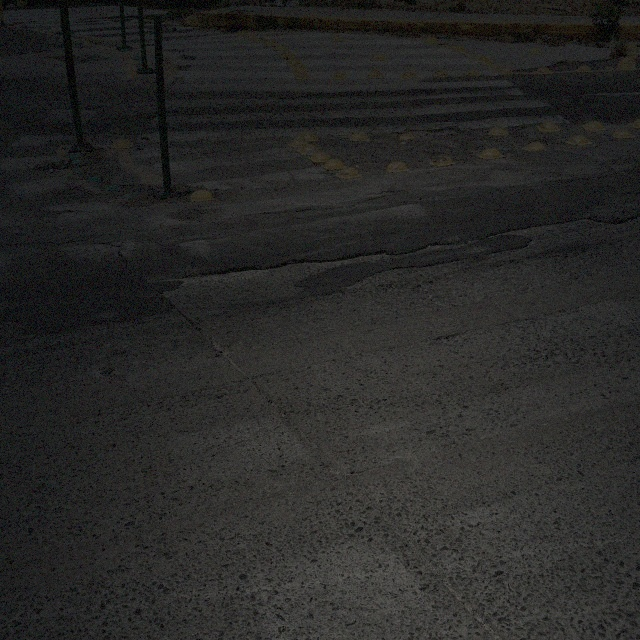pothole: (162, 256, 334, 320), (425, 125, 458, 139)
